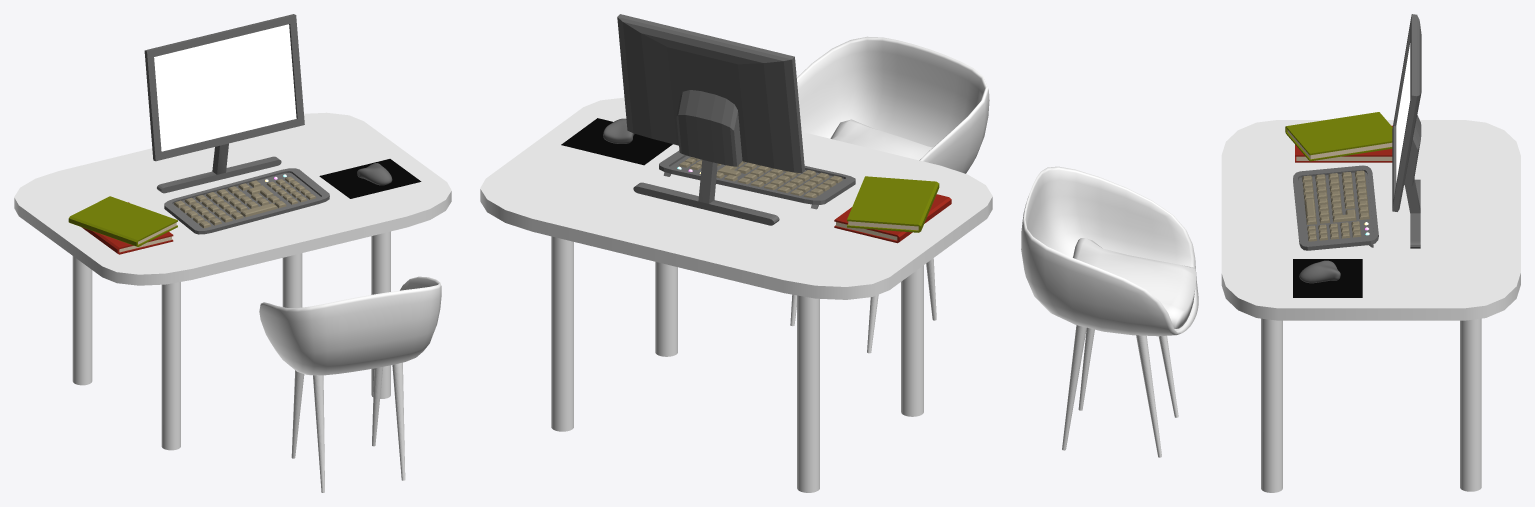
3 renders of one model, left to right at view 1: azimuth 30°, elevation 25°; view 2: azimuth 150°, elevation 25°; view 3: azimuth 270°, elevation 25°, orthographic. The views are drawn at different scales.
Visible parts, largest first — view 1: masa, monitör, sandalye, klavye, kitap, mousepad, mouse; view 2: masa, monitör, sandalye, kitap, klavye, mousepad, mouse; view 3: masa, sandalye, klavye, monitör, kitap, mousepad, mouse.
Part boxes in pixels (left/top/right/bottom): masa: left=14, top=112, right=451, bottom=450; monitör: left=144, top=14, right=304, bottom=193; sandalye: left=259, top=276, right=441, bottom=492; klavye: left=164, top=168, right=329, bottom=234; kitap: left=68, top=196, right=177, bottom=254; mousepad: left=319, top=159, right=421, bottom=198; mouse: left=357, top=163, right=392, bottom=185; masa: left=480, top=97, right=992, bottom=492; monitör: left=617, top=14, right=804, bottom=225; sandalye: left=790, top=36, right=989, bottom=353; kitap: left=834, top=176, right=951, bottom=243; klavye: left=659, top=150, right=855, bottom=209; mousepad: left=561, top=118, right=672, bottom=165; mouse: left=603, top=118, right=634, bottom=143; masa: left=1221, top=120, right=1520, bottom=492; sandalye: left=1021, top=166, right=1198, bottom=457; klavye: left=1293, top=165, right=1378, bottom=250; monitör: left=1392, top=14, right=1421, bottom=248; kitap: left=1285, top=112, right=1392, bottom=162; mousepad: left=1293, top=259, right=1362, bottom=297; mouse: left=1299, top=260, right=1340, bottom=283.
Size of the model in its own units: 4.98 by 4.69 by 5.58.
